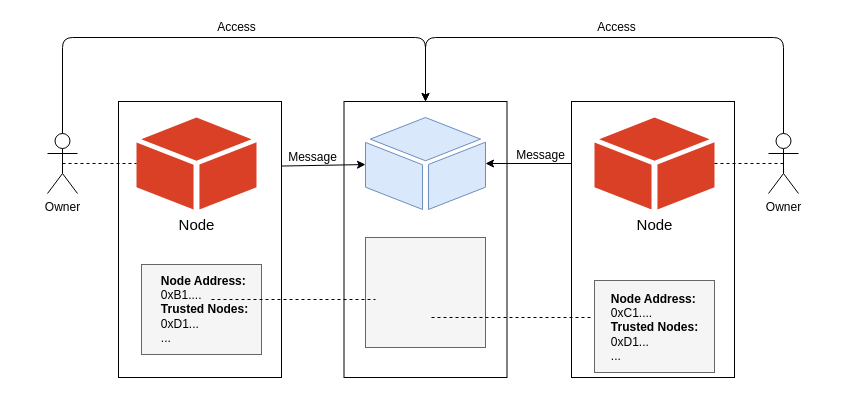
This 867x395 diagram has some shape labels left out. The shapes that lost their labels are listed below. From the top down, each one's centre as x and y in pixels, then its label:
At [425,163]: "Group Node".
At [425,292]: "Node Address: 0xD1.... Trusted Nodes: 0xB1... 0xC1... ...".
